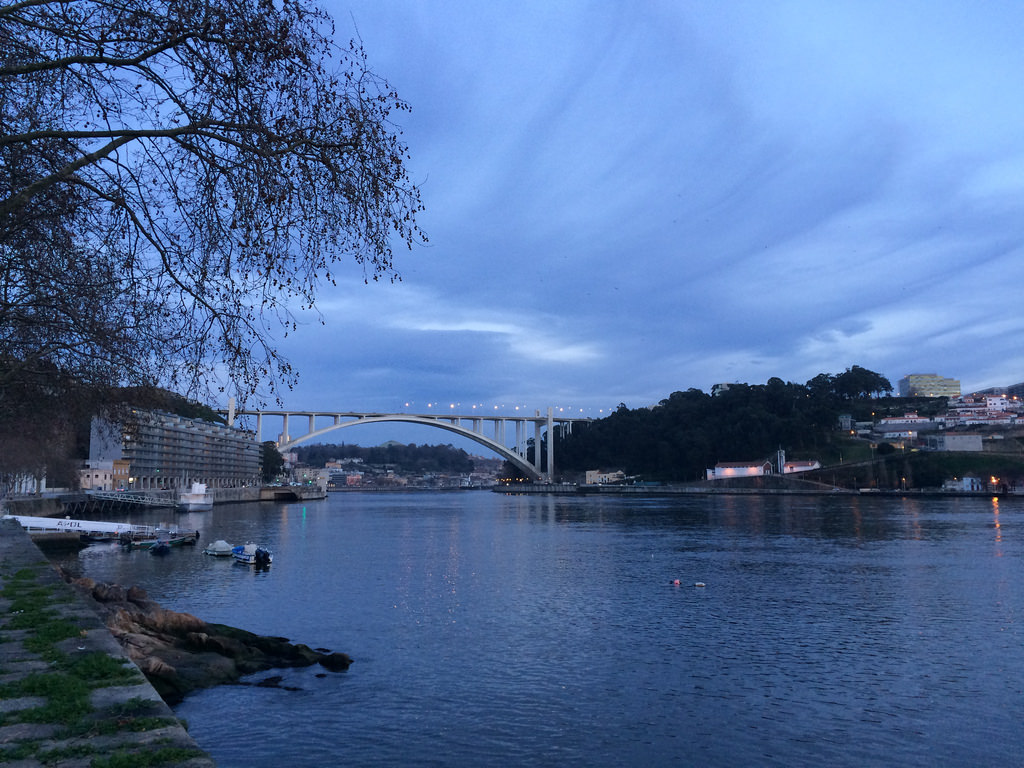arrabida: (207, 399, 604, 485)
